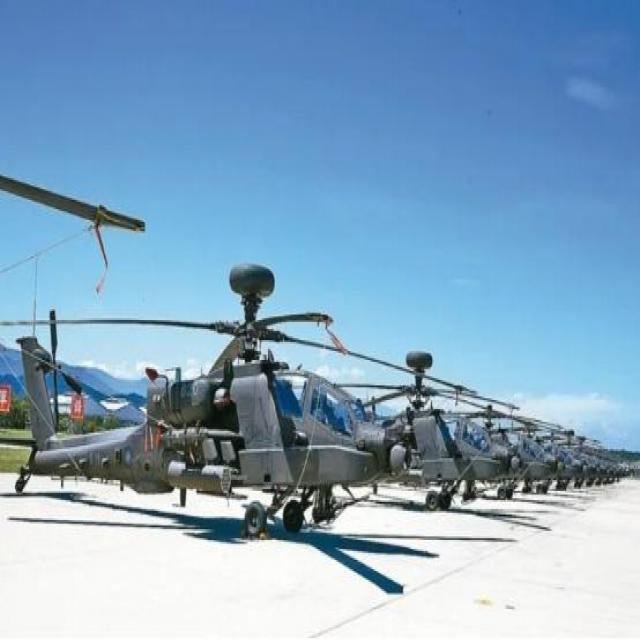MIL_HELO: (11, 257, 420, 555), (352, 332, 514, 514), (474, 383, 564, 492), (527, 408, 586, 493)
